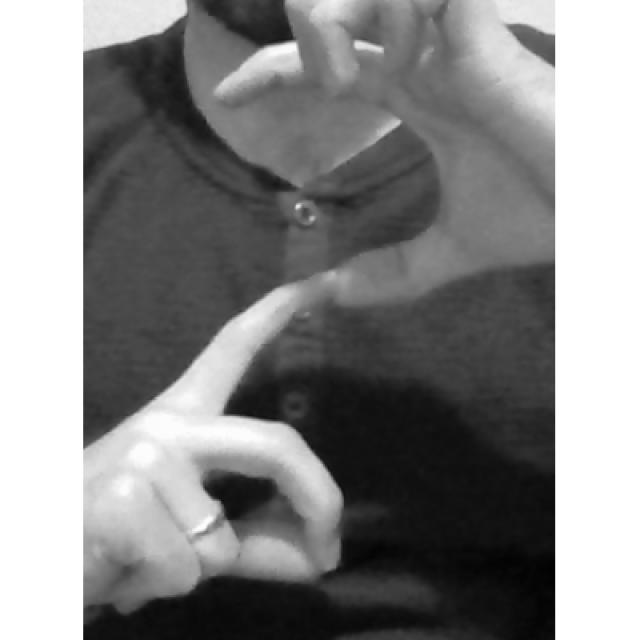S_: (84, 35, 554, 618)
